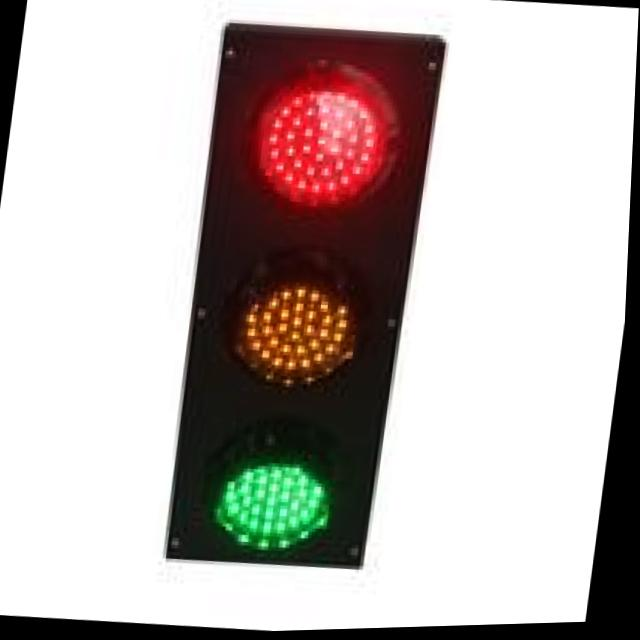green_light: (146, 391, 413, 603)
red_light: (201, 28, 454, 239)
yellow_light: (193, 250, 419, 390)
